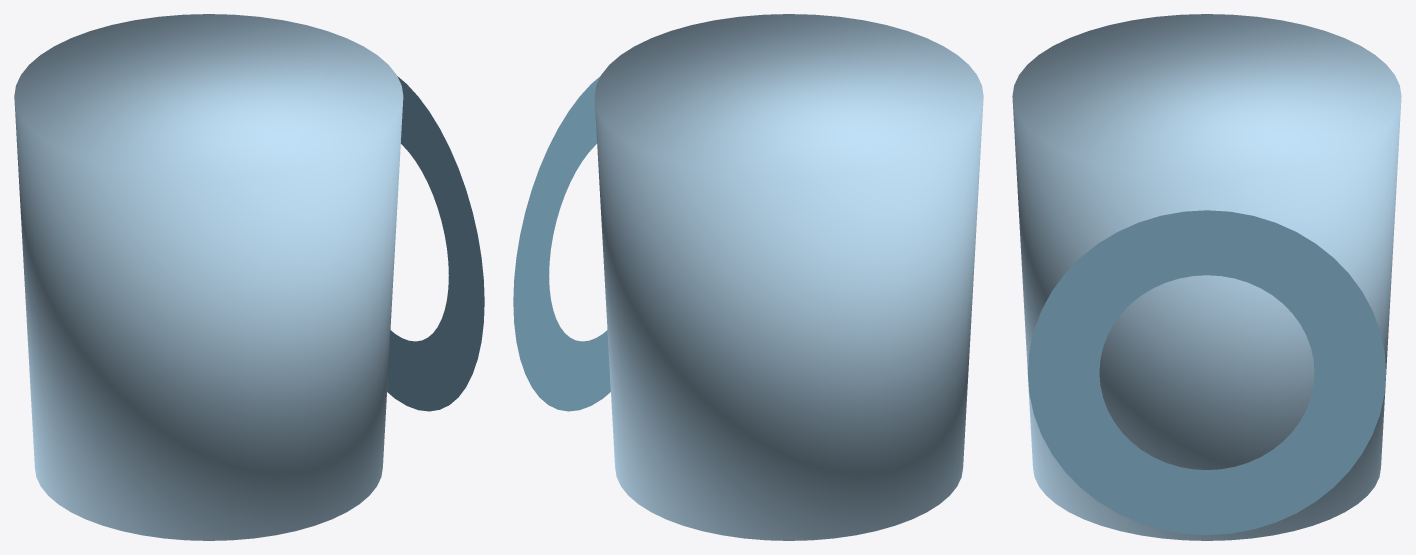
The model's file is lead-mug.glb.
3 renders of one model, left to right at view 1: azimuth 30°, elevation 25°; view 2: azimuth 150°, elevation 25°; view 3: azimuth 270°, elevation 25°, orthographic.
Parts seen in each view (by area): view 1: Cup, Handle; view 2: Cup, Handle; view 3: Cup, Handle.
Boxes of the visible parts, <box> form: Cup: <box>14,14,403,540</box>; Handle: <box>387,76,484,411</box>; Cup: <box>594,14,983,540</box>; Handle: <box>513,76,610,411</box>; Cup: <box>1012,14,1401,540</box>; Handle: <box>1027,210,1386,534</box>.
Size of the model in its own units: 0.08 by 0.08 by 0.076.
